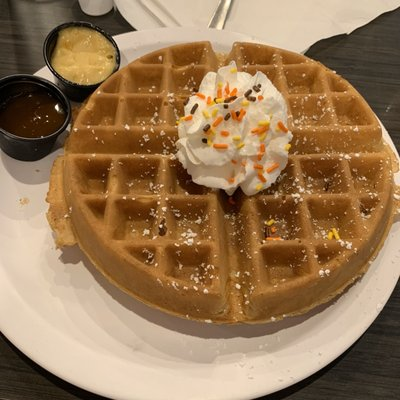sushi: (0, 74, 72, 162), (42, 22, 120, 102)
